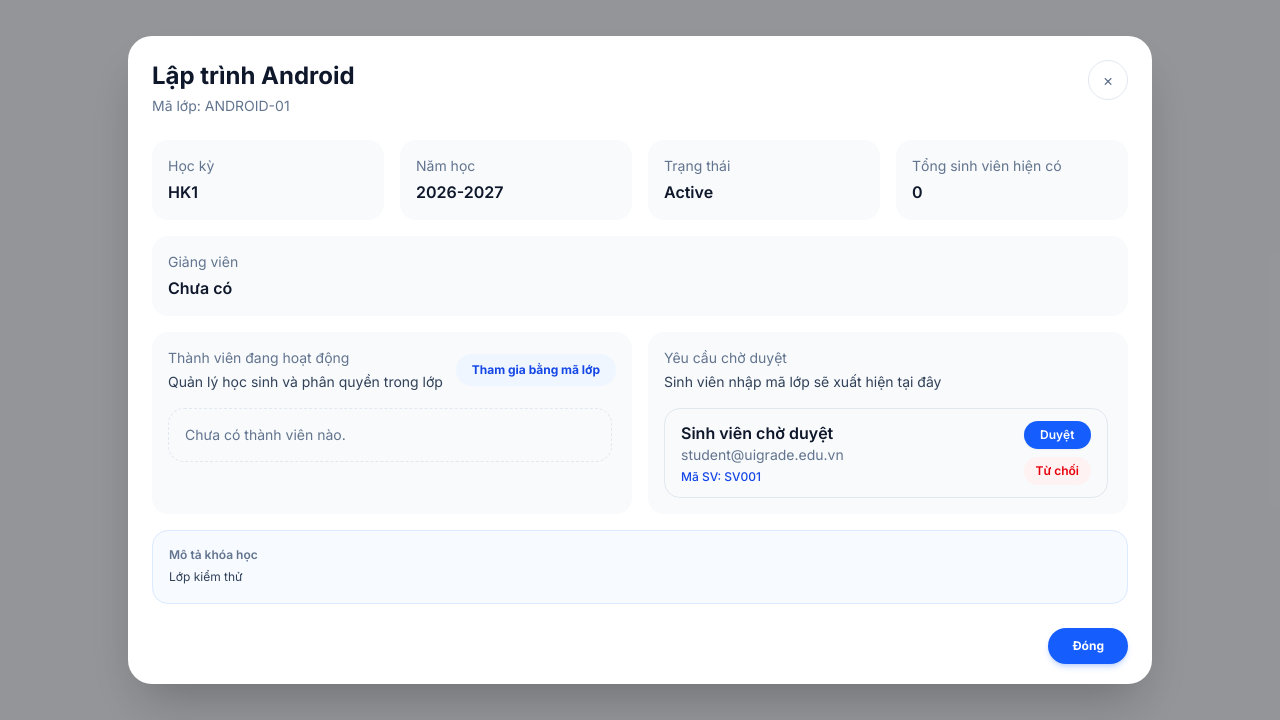
Scenario: lecturer class workflow › refreshes membership and announces a successful approval
Expected: the text "Sinh viên chờ duyệt" is shown, [681,421,844,445]
Click the button "Duyệt". click: (1057, 435)
box: [1024,421,1091,449]
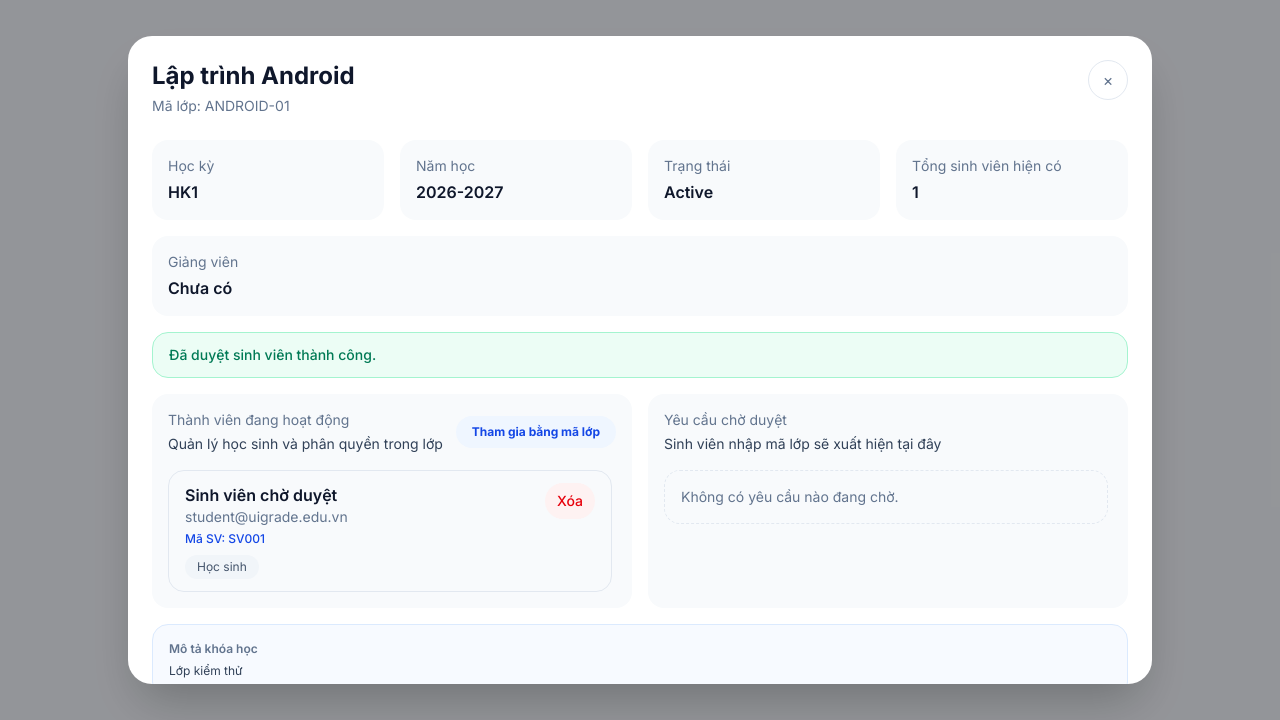
Expected: the text "Thành viên đang hoạt động" is shown, [168,411,349,428]
Now the message shows "Đã duyệt sinh viên", box [169,346,376,363]
